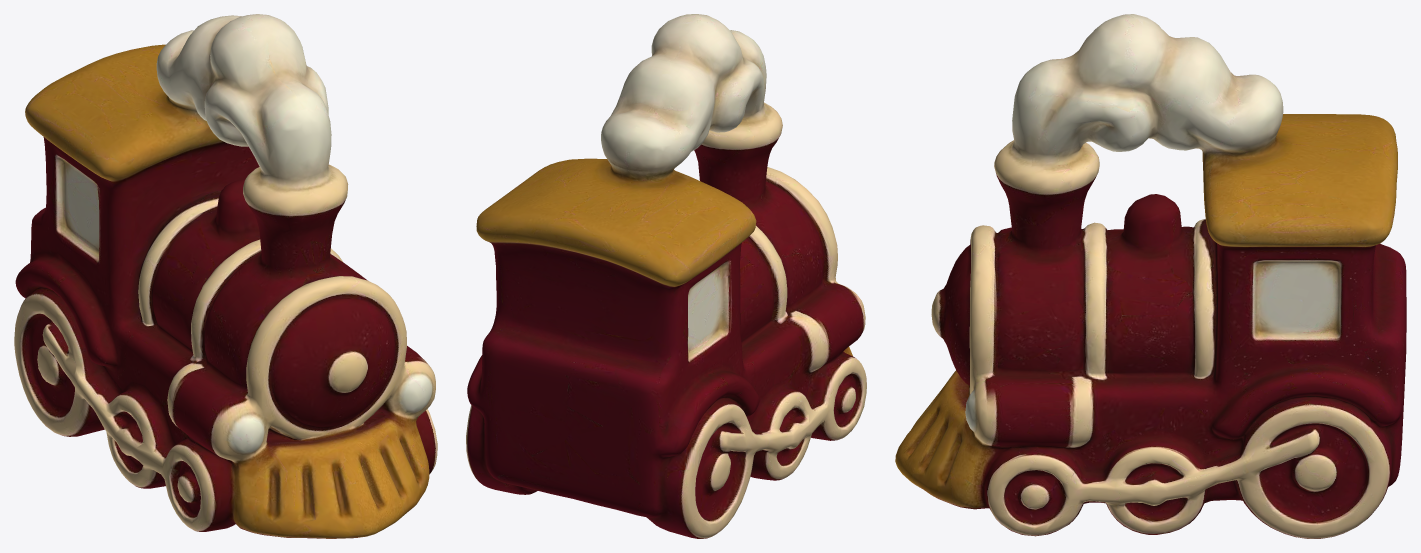
File: train.glb
3 renders of one model, left to right at view 1: azimuth 30°, elevation 25°; view 2: azimuth 150°, elevation 25°; view 3: azimuth 270°, elevation 25°, orthographic. The views are drawn at different scales.
Bounding box in the file's own units: 1.14 × 2 × 1.99.
Materials: 1 (1 with a texture image).
